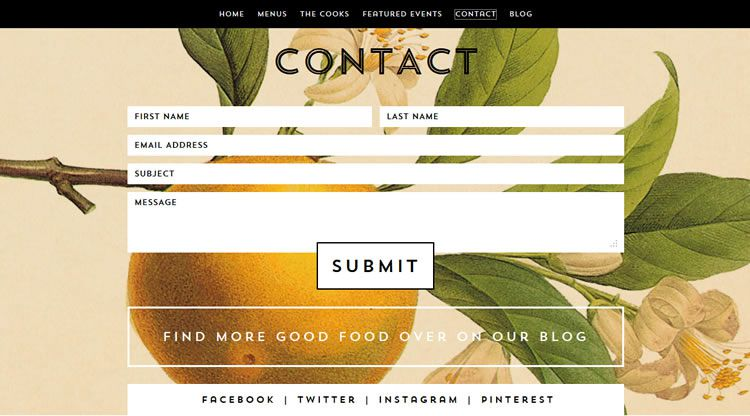button: (317, 241, 436, 290)
field: (127, 191, 625, 253), (126, 162, 625, 185), (126, 134, 626, 155), (126, 105, 374, 128), (379, 106, 625, 128)
